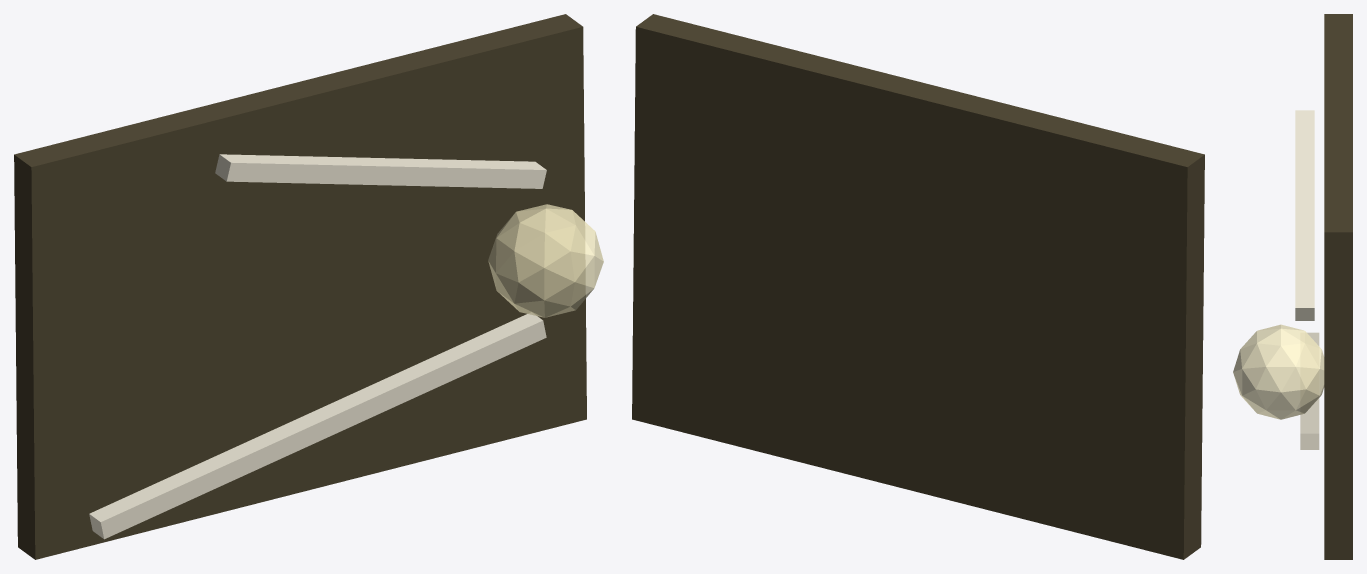
The model's file is 02_world_prop_polish.glb.
The picture shows the model from 3 angles, left to right: view 1: azimuth 30°, elevation 25°; view 2: azimuth 150°, elevation 25°; view 3: azimuth 270°, elevation 25°; orthographic projection. The views are drawn at different scales.
Visible parts, largest first — view 1: object_overlay_plate, edge_wear_a, glow_socket, edge_wear_b; view 2: object_overlay_plate; view 3: object_overlay_plate, glow_socket, edge_wear_b, edge_wear_a.
Boxes of the visible parts, x1=… form: object_overlay_plate: x1=14, y1=14, x2=586, y2=559; edge_wear_a: x1=89, y1=313, x2=546, y2=539; glow_socket: x1=488, y1=204, x2=603, y2=317; edge_wear_b: x1=215, y1=154, x2=546, y2=188; object_overlay_plate: x1=632, y1=14, x2=1204, y2=559; object_overlay_plate: x1=1324, y1=14, x2=1352, y2=559; glow_socket: x1=1233, y1=324, x2=1324, y2=419; edge_wear_b: x1=1295, y1=110, x2=1314, y2=320; edge_wear_a: x1=1300, y1=332, x2=1319, y2=449.
Size of the model in its own units: 1.11 by 0.7612 by 0.25.
